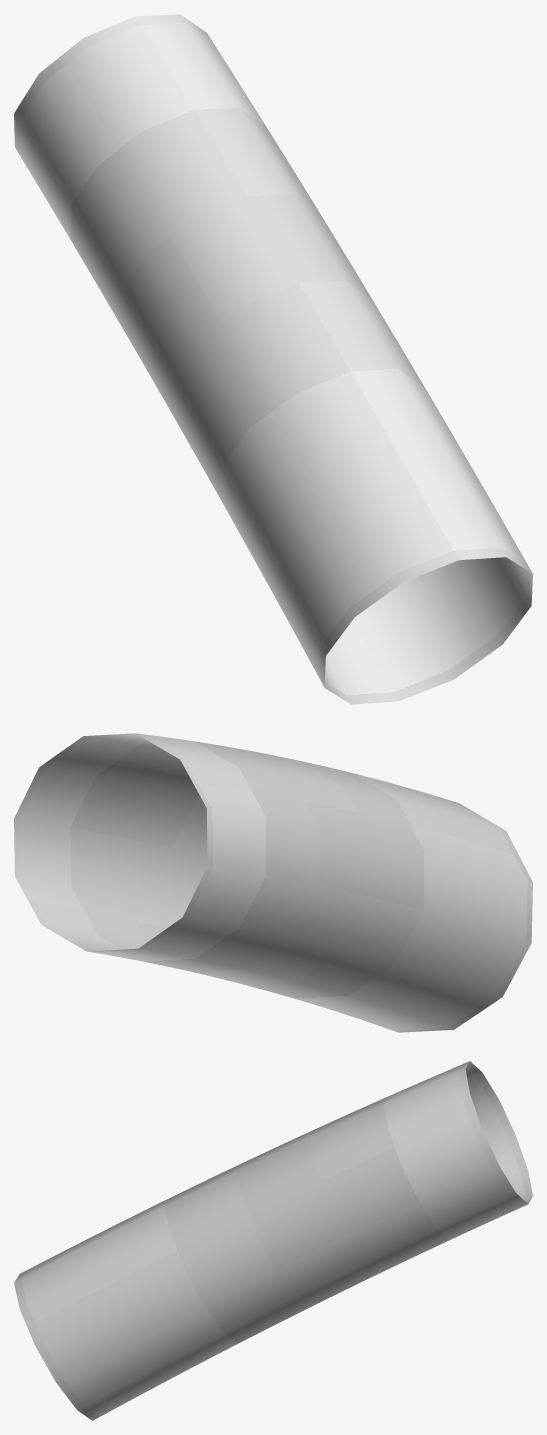
File: luminairearm_caltrans10ftdouble_c1.obj
The picture shows the model from 3 angles, top to bottom: view 1: azimuth 30°, elevation 25°; view 2: azimuth 150°, elevation 25°; view 3: azimuth 270°, elevation 25°; orthographic projection. The views are drawn at different scales.
Visible parts, largest first — view 1: luminairearm_caltrans10ftdouble_c1; view 2: luminairearm_caltrans10ftdouble_c1; view 3: luminairearm_caltrans10ftdouble_c1.
Boxes of the visible parts, x1,y1,x2,y2 form: luminairearm_caltrans10ftdouble_c1: [14, 14, 532, 704]; luminairearm_caltrans10ftdouble_c1: [14, 733, 532, 1032]; luminairearm_caltrans10ftdouble_c1: [14, 1061, 532, 1420].
Size of the model in its own units: 0.2556 by 0.5844 by 0.8011.
